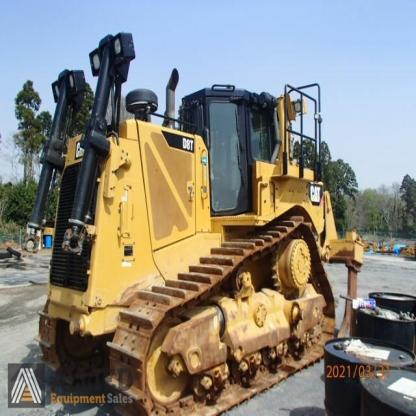bull_dozer/loader/grader: (25, 26, 364, 411)
